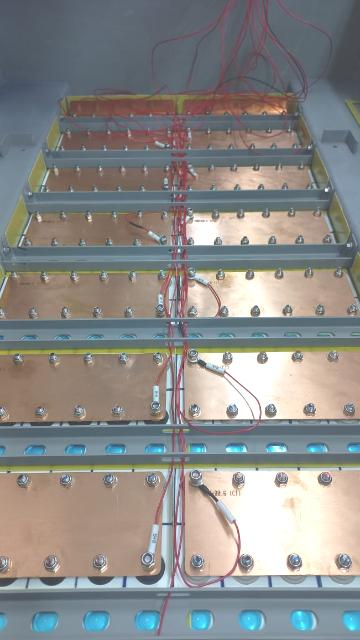busbar: (184, 466, 359, 580), (2, 471, 169, 584), (25, 171, 332, 213), (179, 352, 359, 420), (0, 354, 170, 423), (168, 267, 360, 319), (3, 272, 164, 320), (175, 208, 337, 249), (20, 210, 174, 250), (183, 162, 321, 193), (38, 166, 174, 195), (171, 128, 303, 153), (53, 129, 184, 153)
